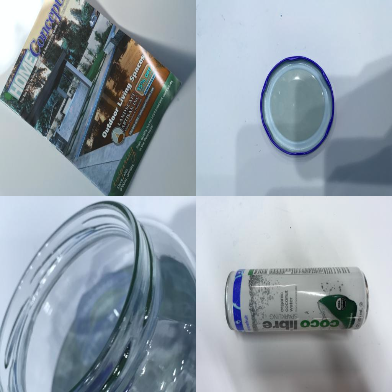glass: (1, 200, 196, 392)
metal: (224, 268, 369, 334), (258, 55, 335, 155)
paper: (1, 1, 183, 195)
